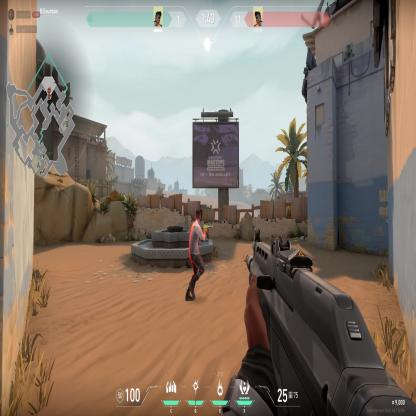enemy: (184, 208, 211, 301)
